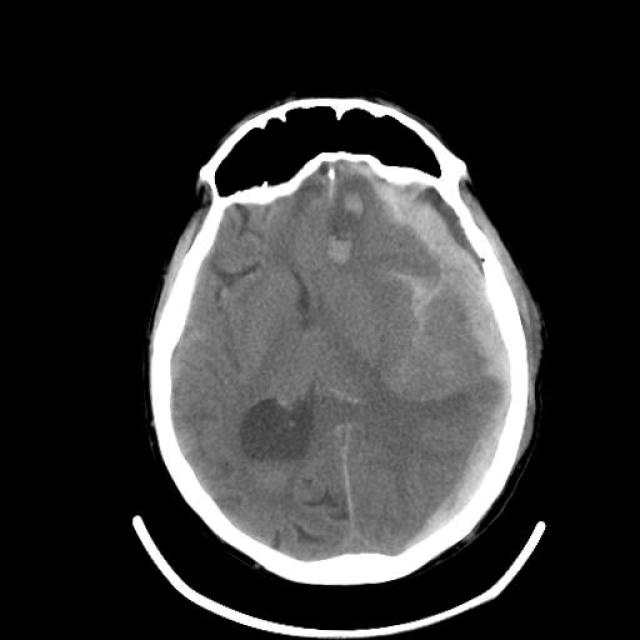Intraparenchymal: (364, 252, 456, 348)
Subarachnoid: (360, 264, 434, 350)
Subdural: (362, 372, 542, 572)
